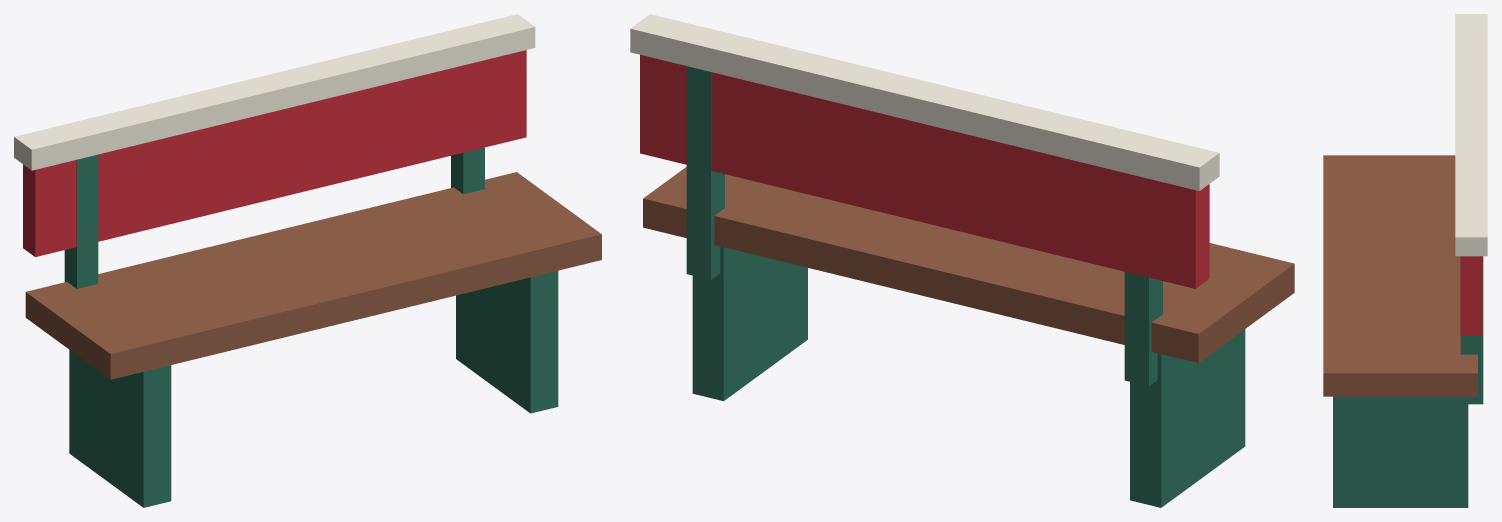
File: north-pole-village-winter-bench-84dee498__25428.glb
3 views of the same model, side by side, from view 1: azimuth 30°, elevation 25°; view 2: azimuth 150°, elevation 25°; view 3: azimuth 270°, elevation 25° (orthographic). The views are drawn at different scales.
Visible parts, largest first — view 1: winter-bench; view 2: winter-bench; view 3: winter-bench.
Boxes of the visible parts, x1,y1,x2,y2 form: winter-bench: (14, 14, 601, 507); winter-bench: (630, 14, 1294, 507); winter-bench: (1323, 14, 1487, 507).
Bounding box in the file's own units: 1.64 × 0.995 × 0.5099.
